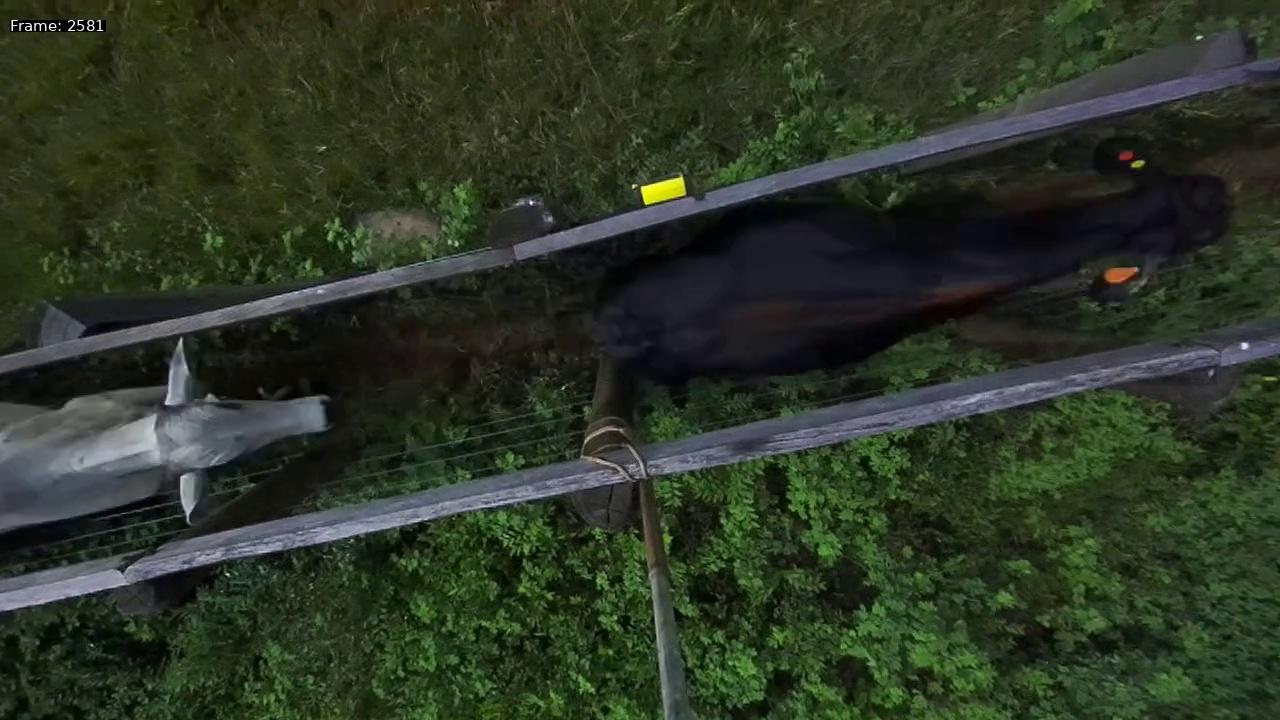cattle: (580, 117, 1239, 392)
